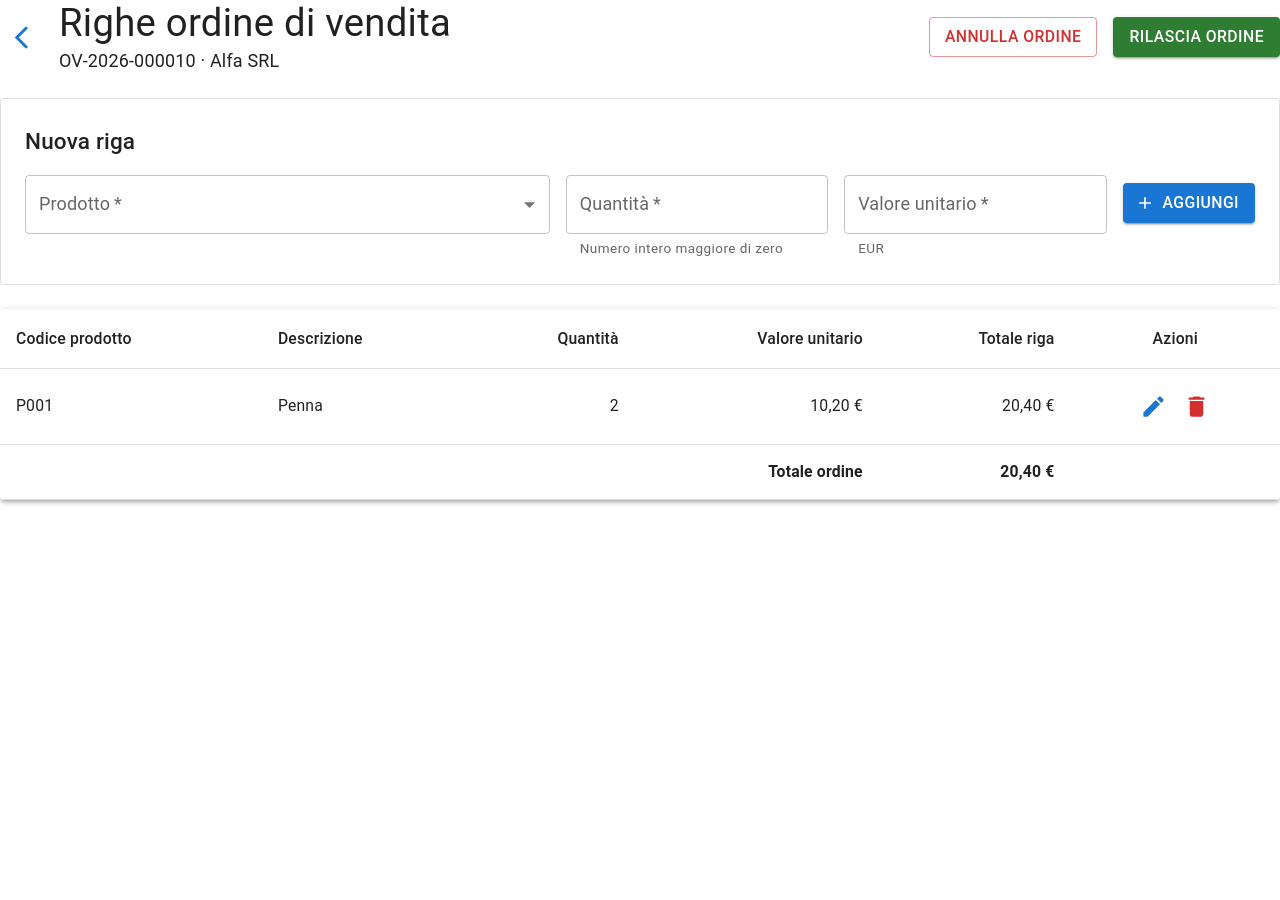
it: RigheOrdineVendita › chiede conferma prima di eliminare una riga
Expected: the text "P001" is shown, [0,368,262,444]
Click the button named "Elimina P001" at coordinates (1197, 406), box [1175,384,1218,428]
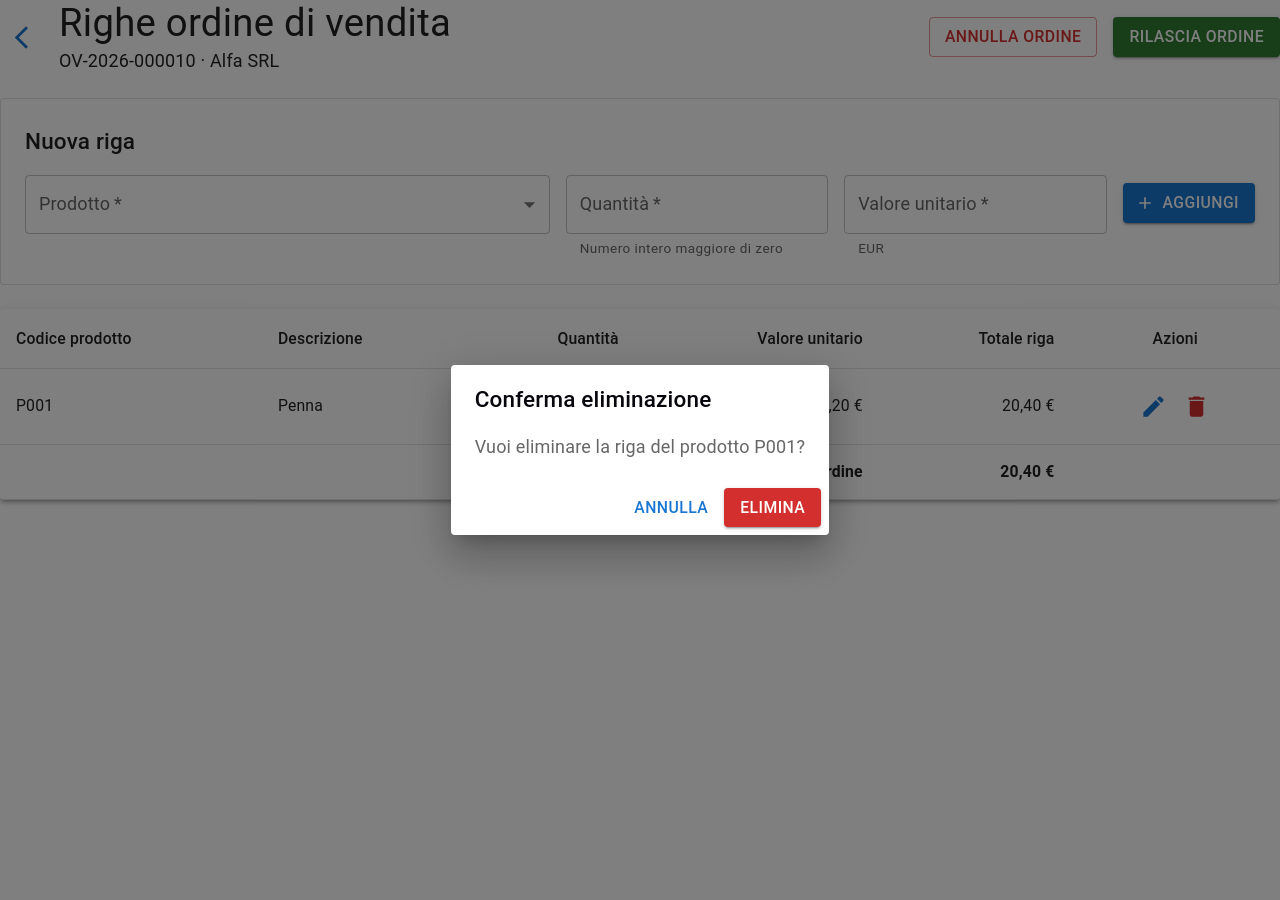
Expected: the text "Vuoi eliminare la riga del prodotto P001?" is shown, [475,433,805,460]
Click the button "Elimina" at coordinates (773, 508), box [724,488,821,527]
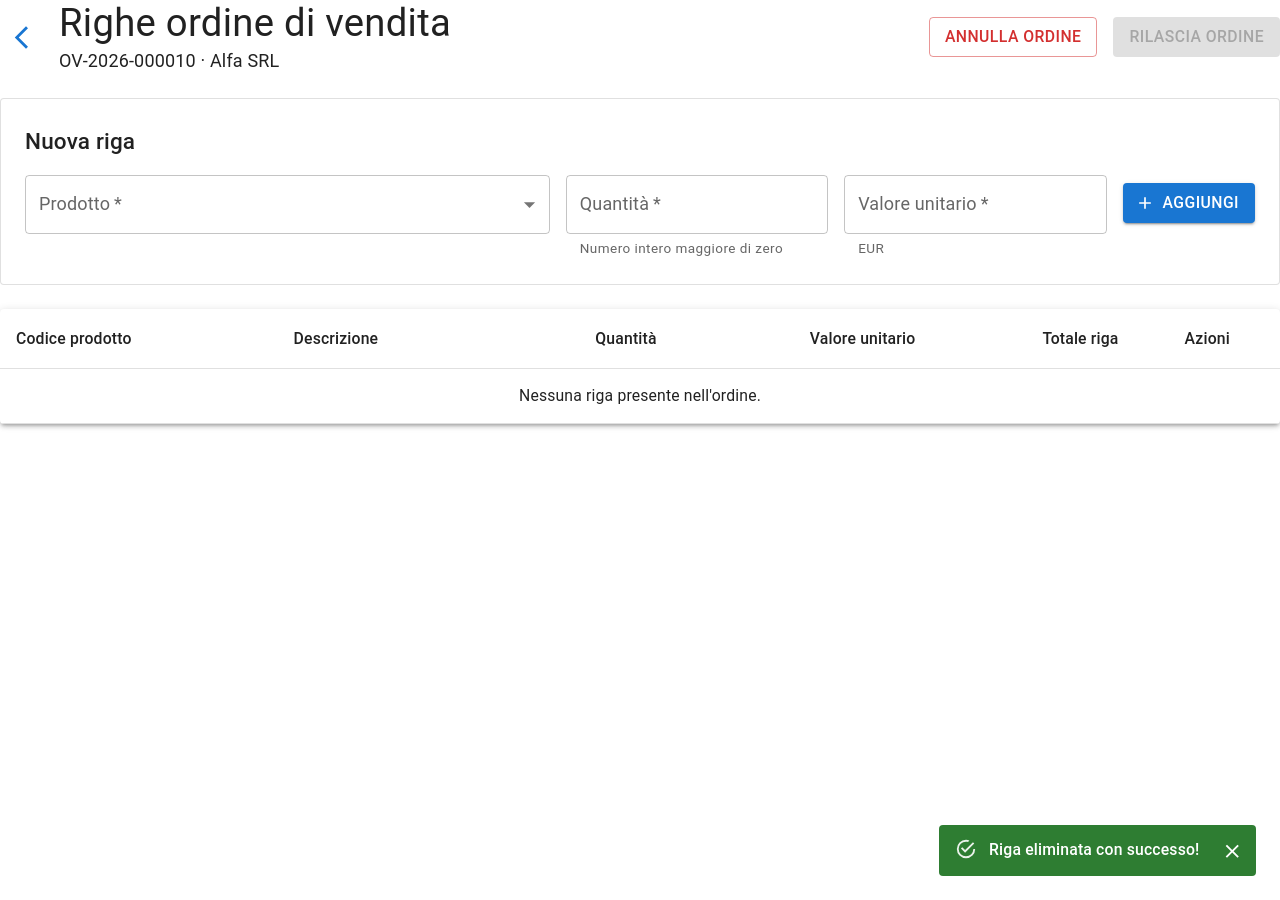
Expected: the text "P001" is gone
Expected: the text "Riga eliminata con successo!" is shown, [989,840,1200,860]
